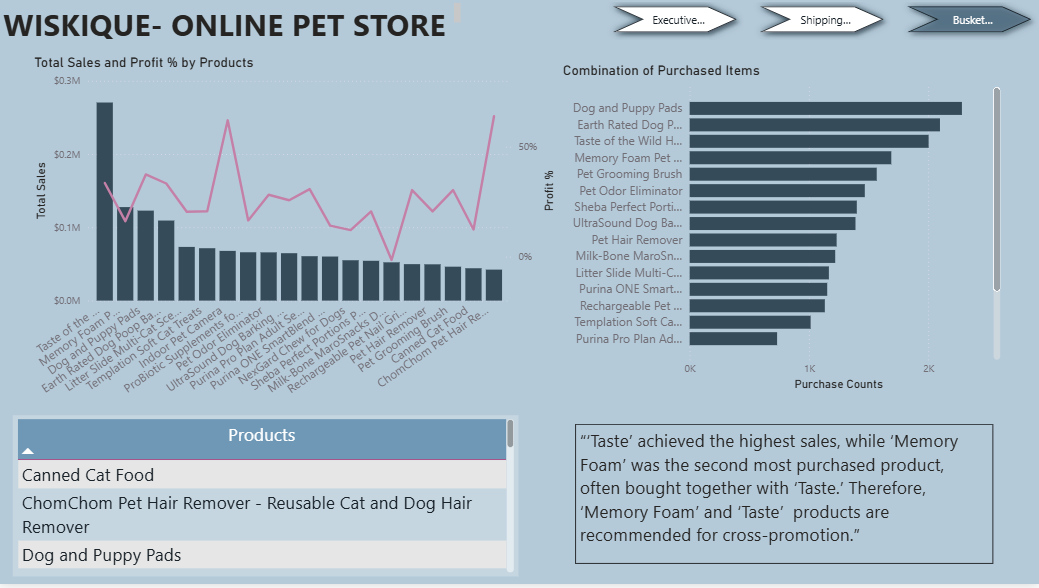

What the dashboard file says about the page in this screenshot:
{"tool":"powerbi","page":{"name":"Busket Analysis ","canvas":[1280,720],"ordinal":6},"visuals":[{"type":"lineStackedColumnComboChart","title":"Total Sales and Profit % by Products","fields":{"Category":["fact_sales.Products"],"Y":["Sum(fact_sales.Sales)"],"Y2":["_measure.Profit %"]},"box":[37.9,67.7,651,431.7],"z":1000},{"type":"barChart","title":"Combination of Purchased Items","fields":{"Y":["CountNonNull(Market Busket.Description)"],"Category":["Market Busket.Description"]},"box":[688.9,77.1,548.1,410.1],"z":2000},{"type":"textbox","box":[708.8,523.5,514.7,172.1],"z":3000},{"type":"pageNavigator","box":[0,0,1280,50.5],"z":4000},{"type":"tableEx","fields":{"Values":["fact_sales.Products"]},"box":[17.6,511.8,622.1,198.5],"z":5000}]}

Visuals, with their boxes in screenshot pixels (x1, y1, x2, y2), scaled from the page's 1280x720 canvas onto the 1039x588 screenshot:
"Total Sales and Profit % by Products" lineStackedColumnComboChart: (31,55,559,408)
"Combination of Purchased Items" barChart: (559,63,1004,398)
textbox: (575,428,993,568)
pageNavigator: (0,0,1038,41)
tableEx - fact_sales.Products: (14,418,519,580)
